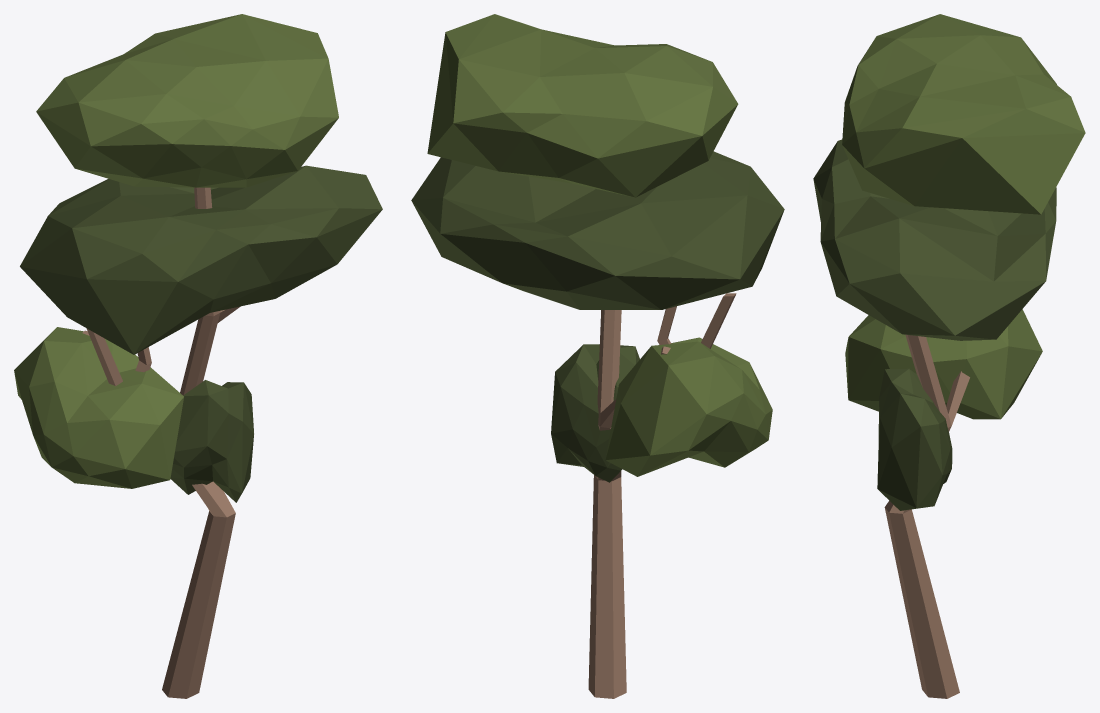
The model's file is LargeTree.glb.
3 views of the same model, side by side, from view 1: azimuth 30°, elevation 25°; view 2: azimuth 150°, elevation 25°; view 3: azimuth 270°, elevation 25° (orthographic). The views are drawn at different scales.
Parts seen in each view (by area): view 1: Tree Type3 05 Model; view 2: Tree Type3 05 Model; view 3: Tree Type3 05 Model.
Boxes of the visible parts, x1,y1,x2,y2 form: Tree Type3 05 Model: (14,14,382,698); Tree Type3 05 Model: (411,14,784,698); Tree Type3 05 Model: (813,14,1085,698).
Bounding box in the file's own units: 3.49 × 6.29 × 2.43.
1 material, 1 textured.
